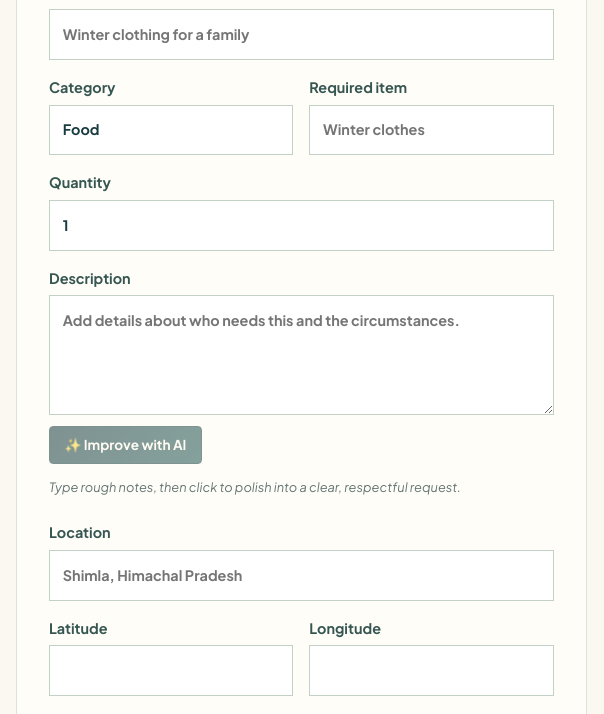
Feature 4: AI Content Generation for Help Requests › 5. clicking "✕ Dismiss" clears suggestion without modifying description
(page scrolled)
In the text box with placeholder "Add details about who needs this and the circumstances.": (301, 355) [49, 295, 554, 415], type "My original notes"
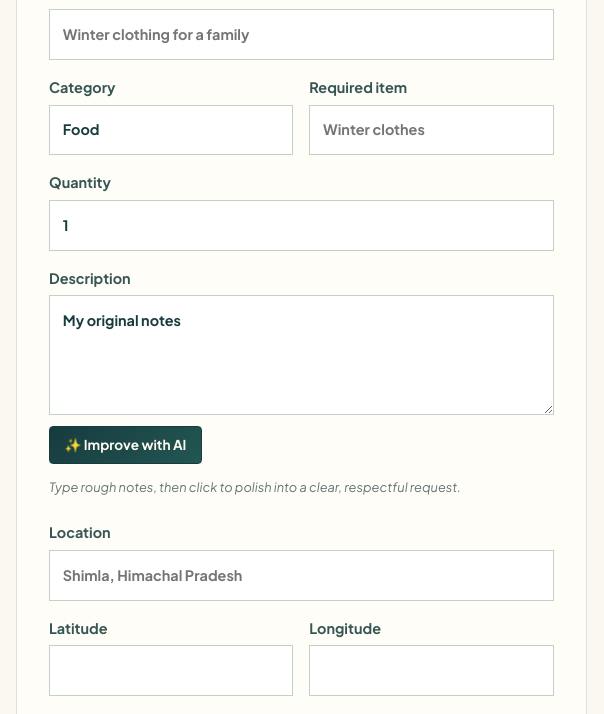
Click the button "✨ Improve with AI": (125, 445) [49, 426, 202, 464]
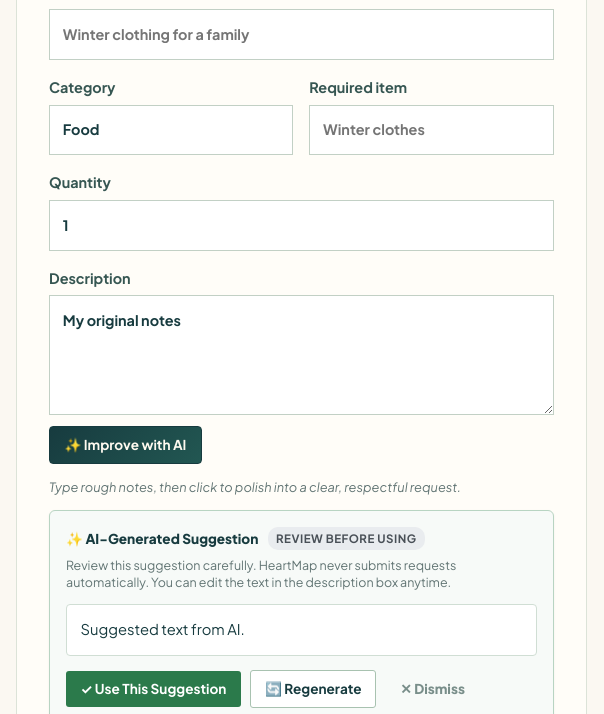
Click the button "✕ Dismiss": (433, 689) [386, 670, 480, 708]
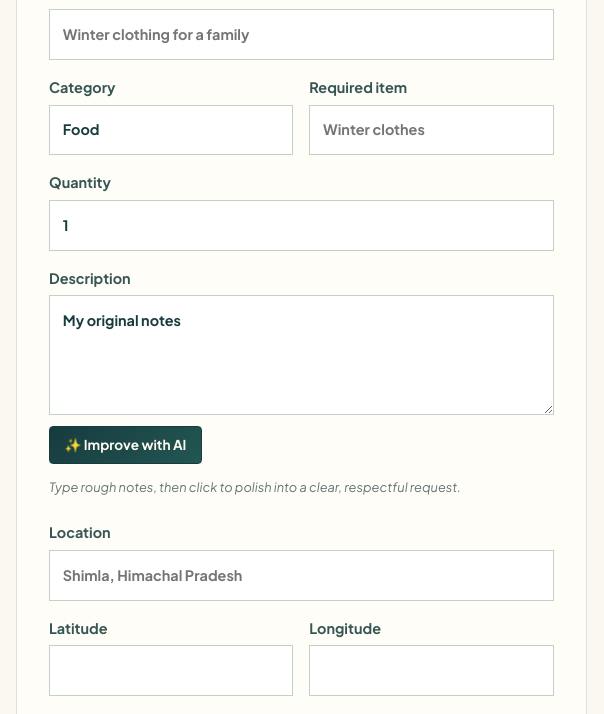
Now the text with test id "ai-suggestion-text" is gone
